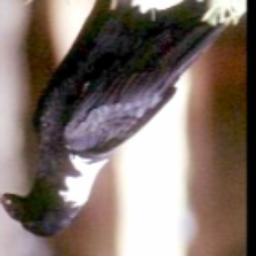Crow: (0, 0, 237, 248)
